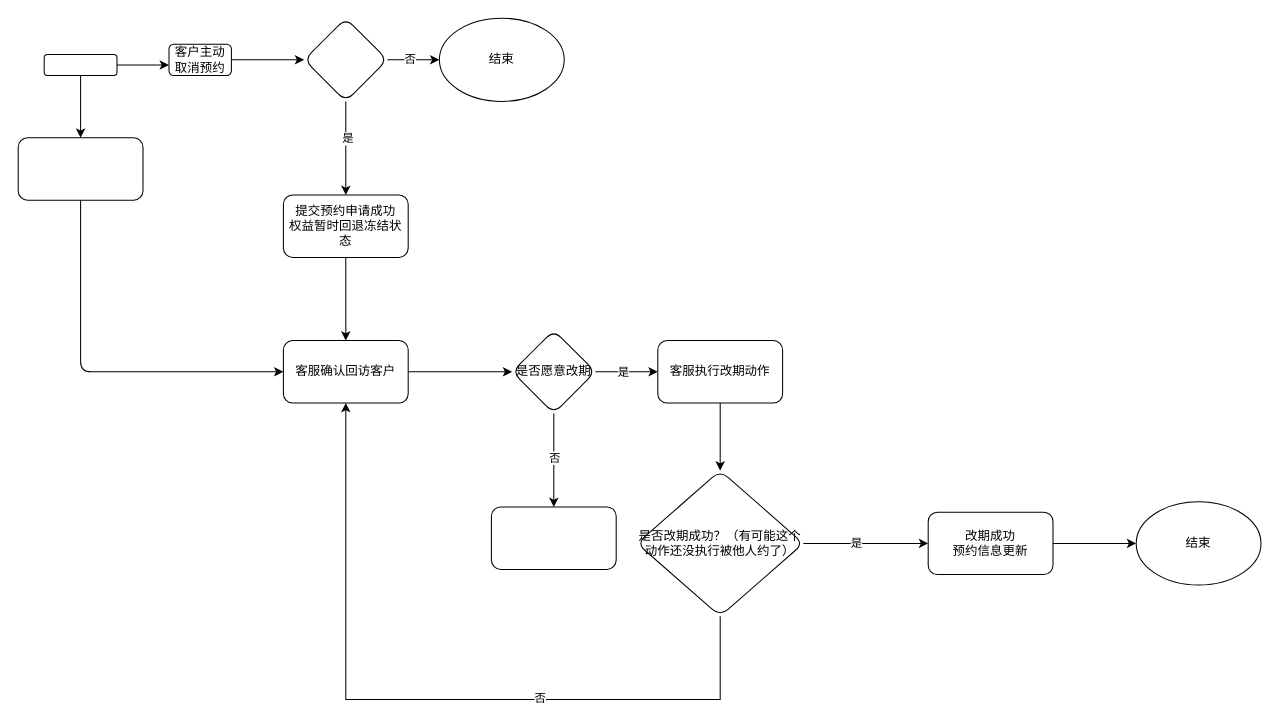
Some shapes in this 1279 by 726 pixel diagram are drawn without their labels. Each missing label, with the centre of its shape:
"客服主动回访跟客户特殊情况要求取消预约" goes at pixel 80 168.
"客服操作确认取消成功" goes at pixel 553 537.
"是否满足取消预约条件" goes at pixel 345 59.
"模特预约" goes at pixel 80 64.
